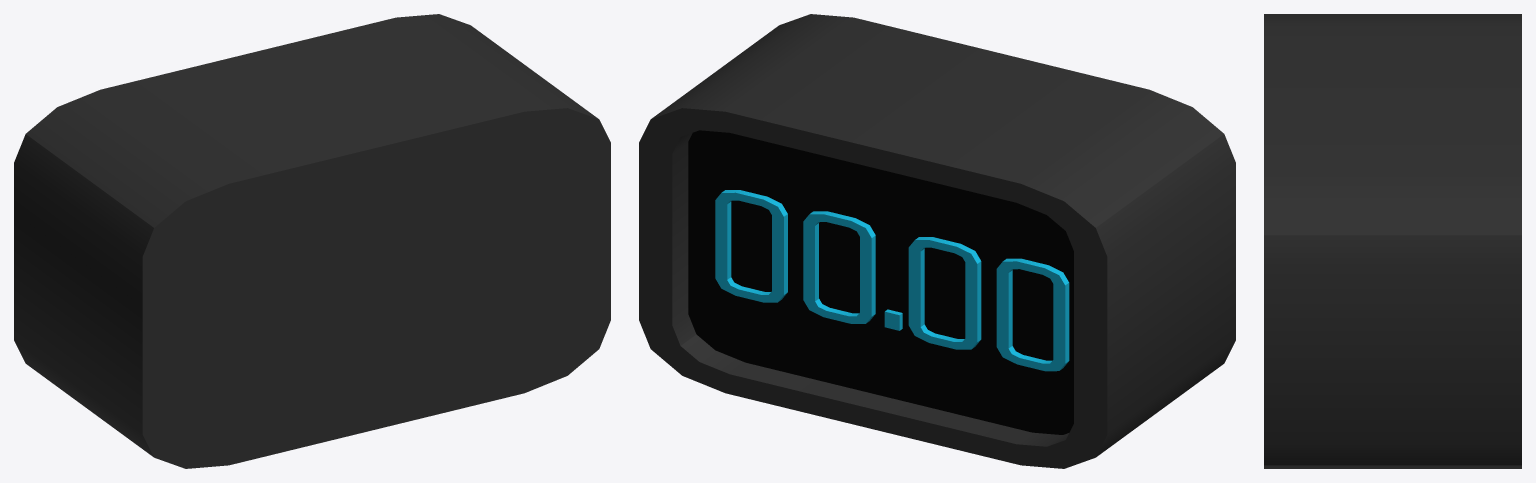
Rendered from digitalclock.fbx.
3 views of the same model, side by side, from view 1: azimuth 30°, elevation 25°; view 2: azimuth 150°, elevation 25°; view 3: azimuth 270°, elevation 25° (orthographic).
Parts seen in each view (by area): view 1: Cube.001; view 2: Cube.001; view 3: Cube.001.
Boxes of the visible parts, x1=… form: Cube.001: x1=14, y1=14, x2=610, y2=468; Cube.001: x1=639, y1=14, x2=1235, y2=468; Cube.001: x1=1264, y1=14, x2=1521, y2=468.
Bounding box in the file's own units: 92.38 × 53.08 × 43.93.
